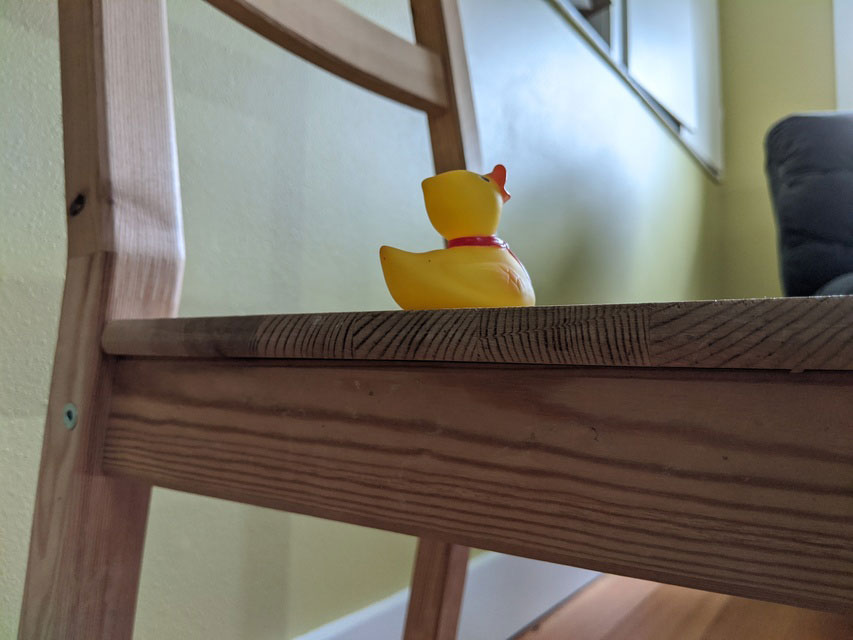ducky: (379, 164, 538, 310)
